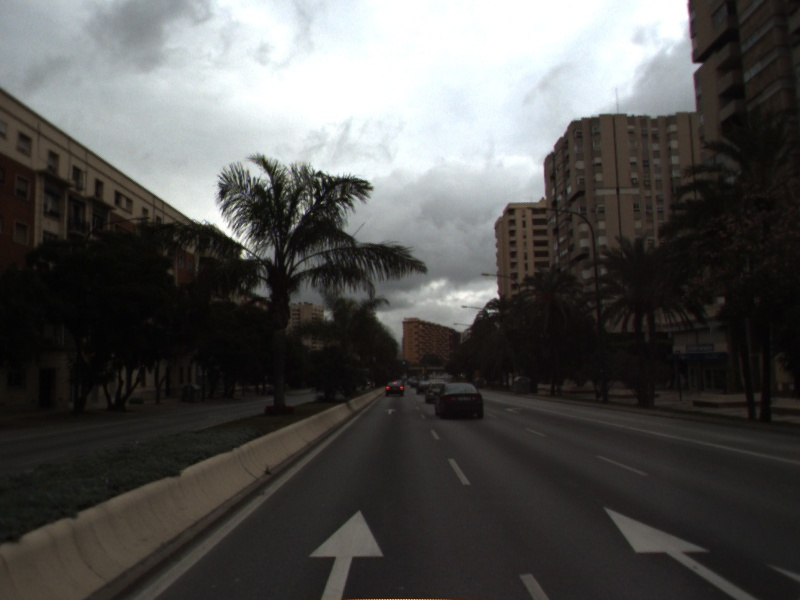RIGHT: (503, 405, 524, 416)
STRAIGHT: (599, 503, 763, 600), (304, 506, 388, 600), (383, 407, 399, 416)
